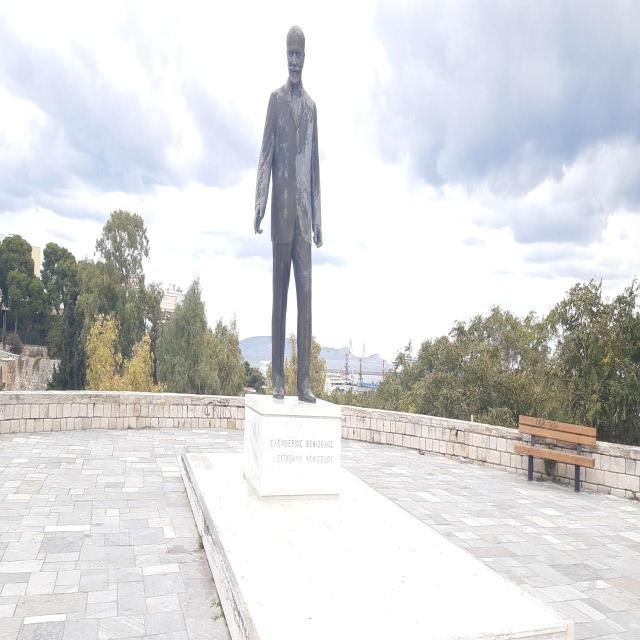Venizelos: (256, 27, 324, 408)
